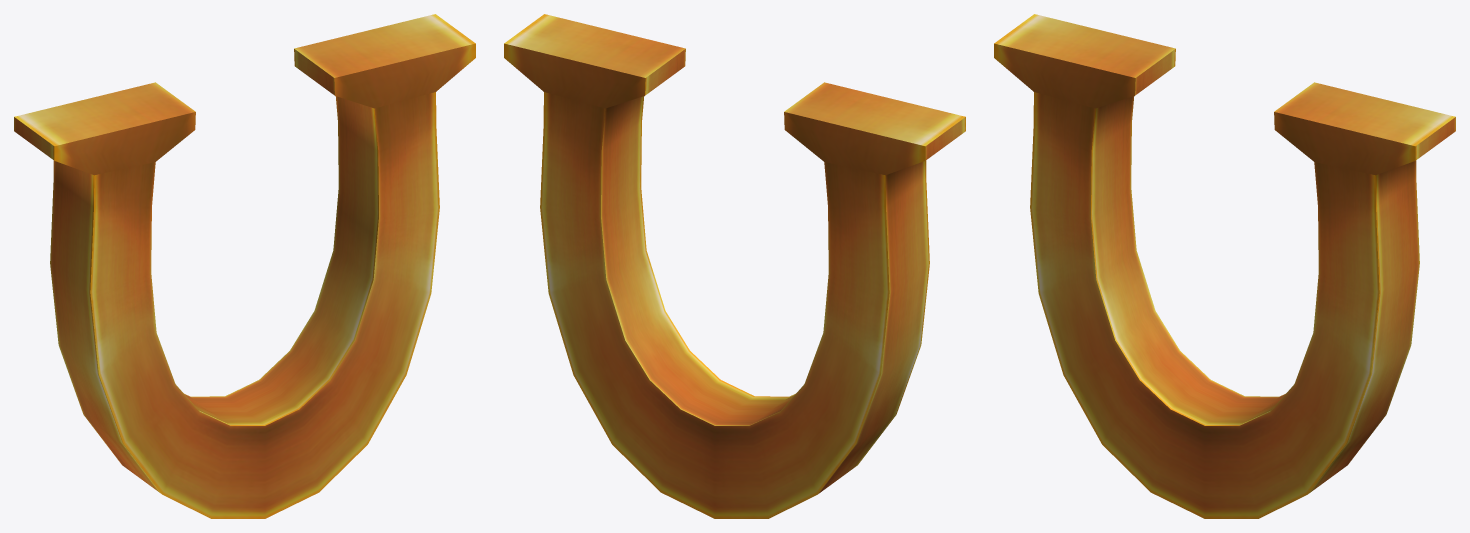
3 renders of one model, left to right at view 1: azimuth 30°, elevation 25°; view 2: azimuth 150°, elevation 25°; view 3: azimuth 330°, elevation 25°, orthographic.
Visible parts, largest first — view 1: ts_xjbzmtt001; view 2: ts_xjbzmtt001; view 3: ts_xjbzmtt001.
Part boxes in pixels (left/top/right/bottom): ts_xjbzmtt001: left=14, top=14, right=475, bottom=518; ts_xjbzmtt001: left=504, top=14, right=965, bottom=518; ts_xjbzmtt001: left=994, top=14, right=1455, bottom=518.
Size of the model in its own units: 1.16 by 1.11 by 0.1918.
